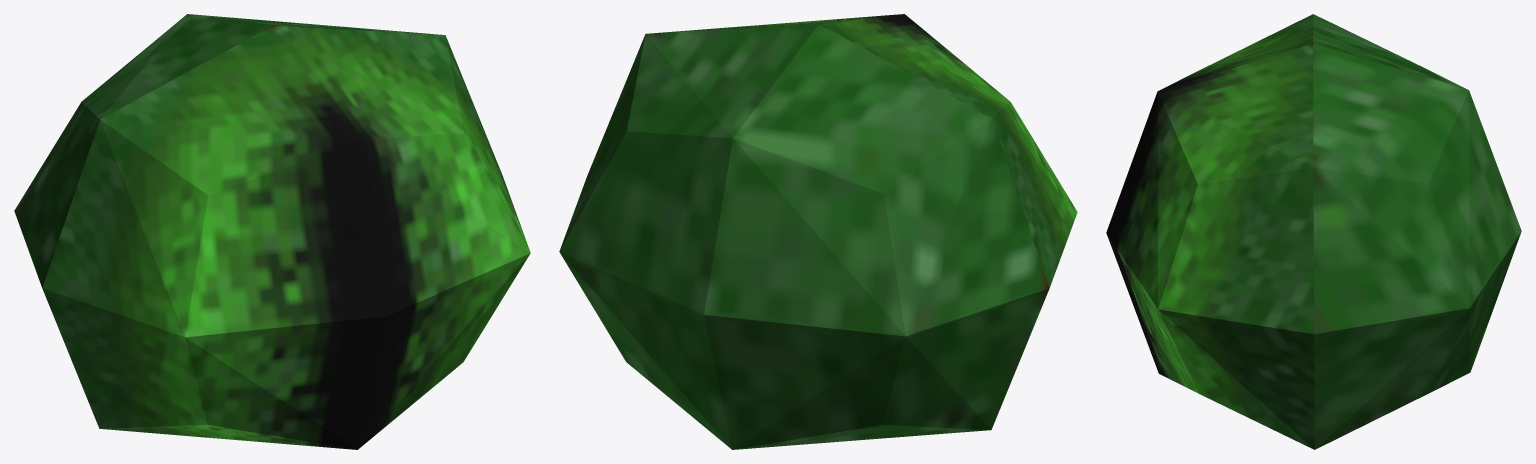
Rendered from naxiriseye.obj.
3 views of the same model, side by side, from view 1: azimuth 30°, elevation 25°; view 2: azimuth 150°, elevation 25°; view 3: azimuth 270°, elevation 25° (orthographic). The views are drawn at different scales.
Parts seen in each view (by area): view 1: naxiriseye; view 2: naxiriseye; view 3: naxiriseye.
Boxes of the visible parts, bbox=[...] form: naxiriseye: bbox=[14, 14, 530, 449]; naxiriseye: bbox=[559, 14, 1077, 449]; naxiriseye: bbox=[1106, 14, 1521, 449].
Size of the model in its own units: 0.4572 by 0.3921 by 0.3921.
